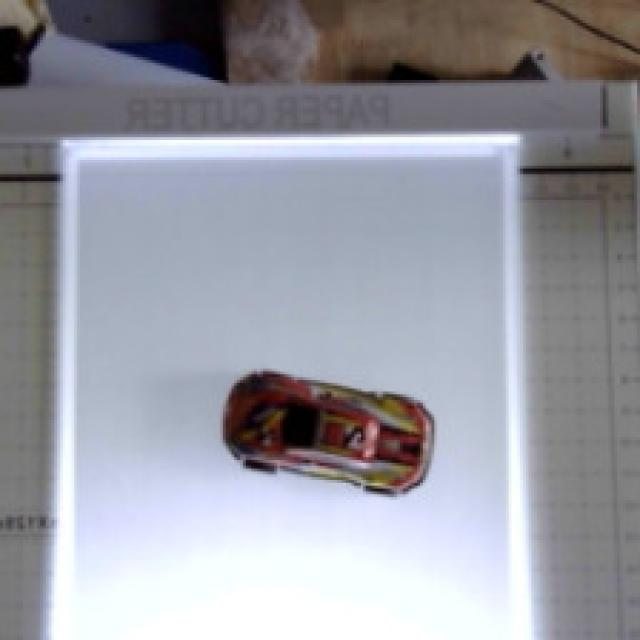Red Car: (198, 352, 460, 542)
